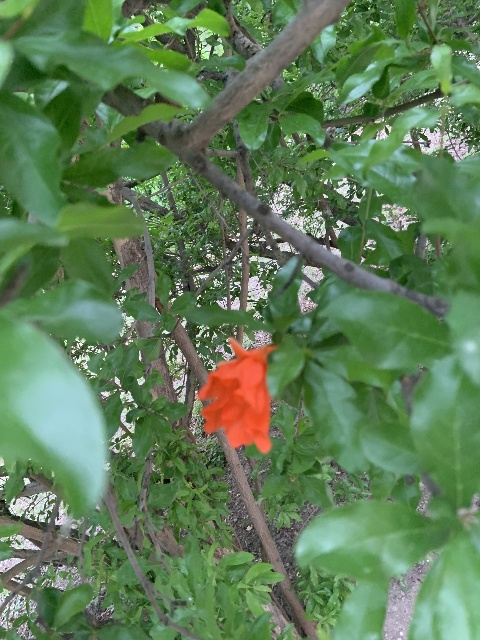flower: (198, 336, 276, 453)
